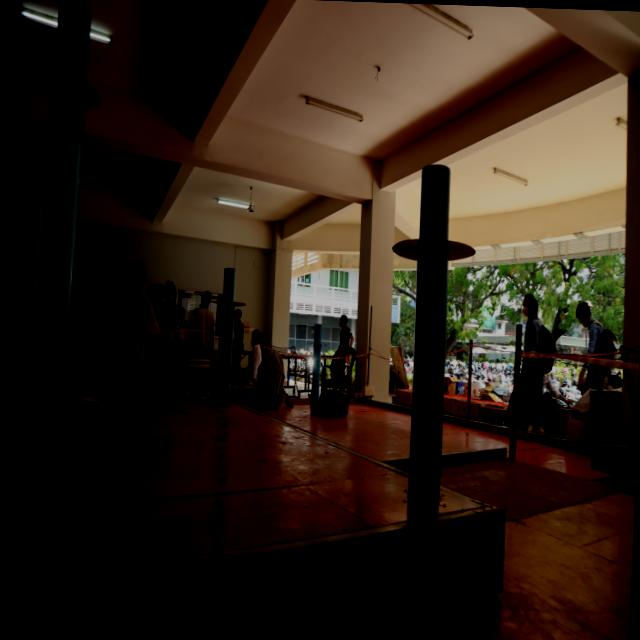pole: (386, 158, 486, 318), (33, 5, 106, 154), (212, 267, 248, 326)
